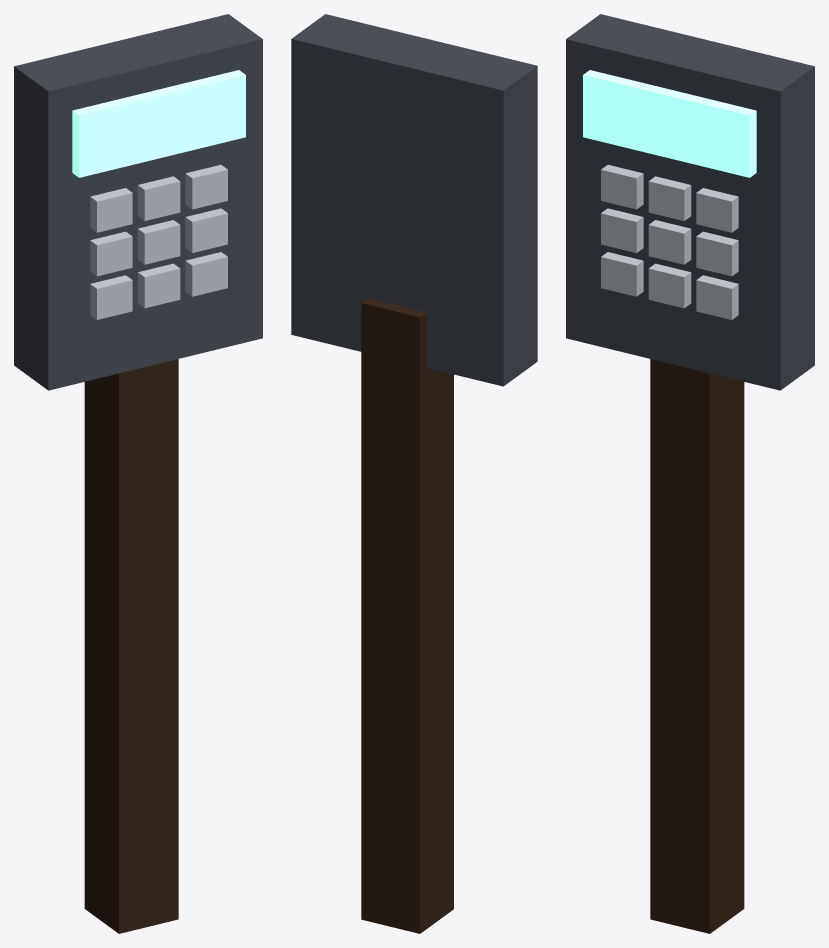
The model's file is f_keypad.glb.
The picture shows the model from 3 angles, left to right: view 1: azimuth 30°, elevation 25°; view 2: azimuth 150°, elevation 25°; view 3: azimuth 330°, elevation 25°; orthographic projection.
Visible parts, largest first — view 1: keypad; view 2: keypad; view 3: keypad.
Part boxes in pixels (x1,y1,x2,y2): keypad: (14,14,262,933); keypad: (291,14,537,933); keypad: (566,14,814,933).
Size of the model in its own units: 0.36 by 1.39 by 0.14.
